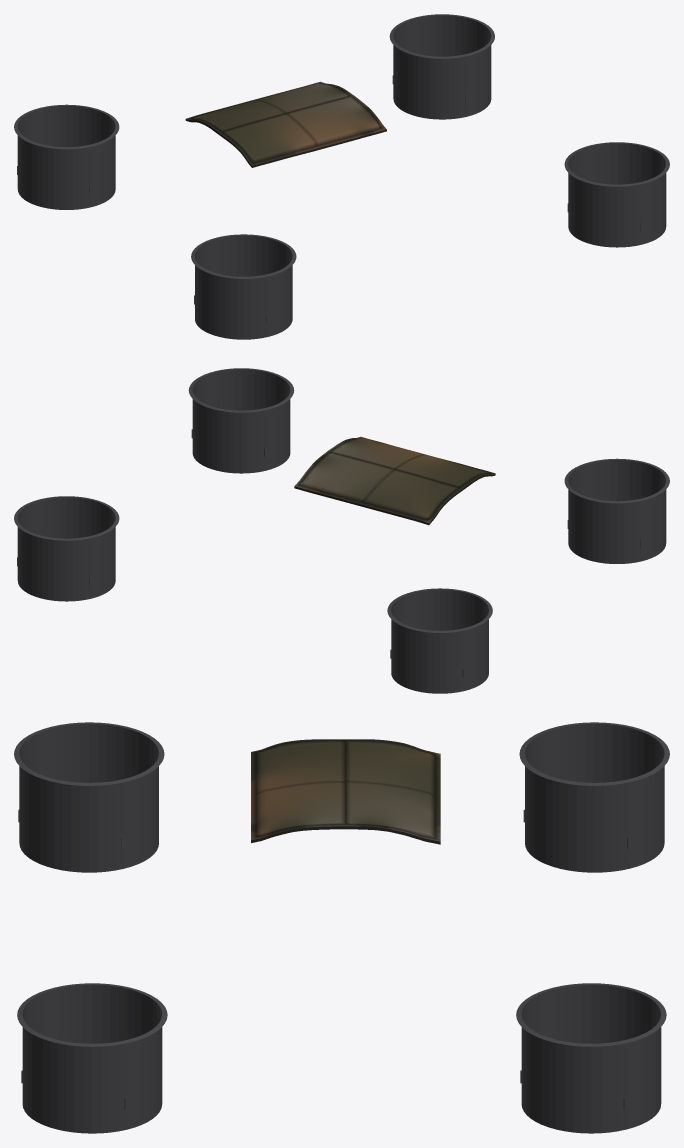
The model's file is fh_detail_bomber_t5.glb.
3 views of the same model, one above another, from view 1: azimuth 30°, elevation 25°; view 2: azimuth 150°, elevation 25°; view 3: azimuth 270°, elevation 25° (orthographic). The views are drawn at different scales.
Visible parts, largest first — view 1: stator_fl, stator_fr, stator_rl, stator_rr, drone_bay; view 2: stator_fr, stator_fl, stator_rr, drone_bay, stator_rl; view 3: stator_fr, stator_fl, stator_rl, stator_rr, drone_bay.
Part boxes in pixels (box(x1,y1,x2,y2)): stator_fl: box(389, 14, 494, 119); stator_fr: box(564, 142, 669, 247); stator_rl: box(14, 104, 119, 209); stator_rr: box(191, 234, 296, 339); drone_bay: box(185, 81, 386, 167); stator_fr: box(188, 368, 294, 473); stator_fl: box(14, 496, 119, 601); stator_rr: box(564, 458, 669, 563); drone_bay: box(294, 436, 495, 525); stator_rl: box(387, 588, 492, 693); stator_fr: box(17, 983, 167, 1133); stator_fl: box(516, 983, 666, 1133); stator_rl: box(519, 722, 669, 872); stator_rr: box(14, 722, 164, 872); drone_bay: box(251, 739, 440, 844).
Size of the model in its own units: 0.7091 by 0.159 by 0.6058.
